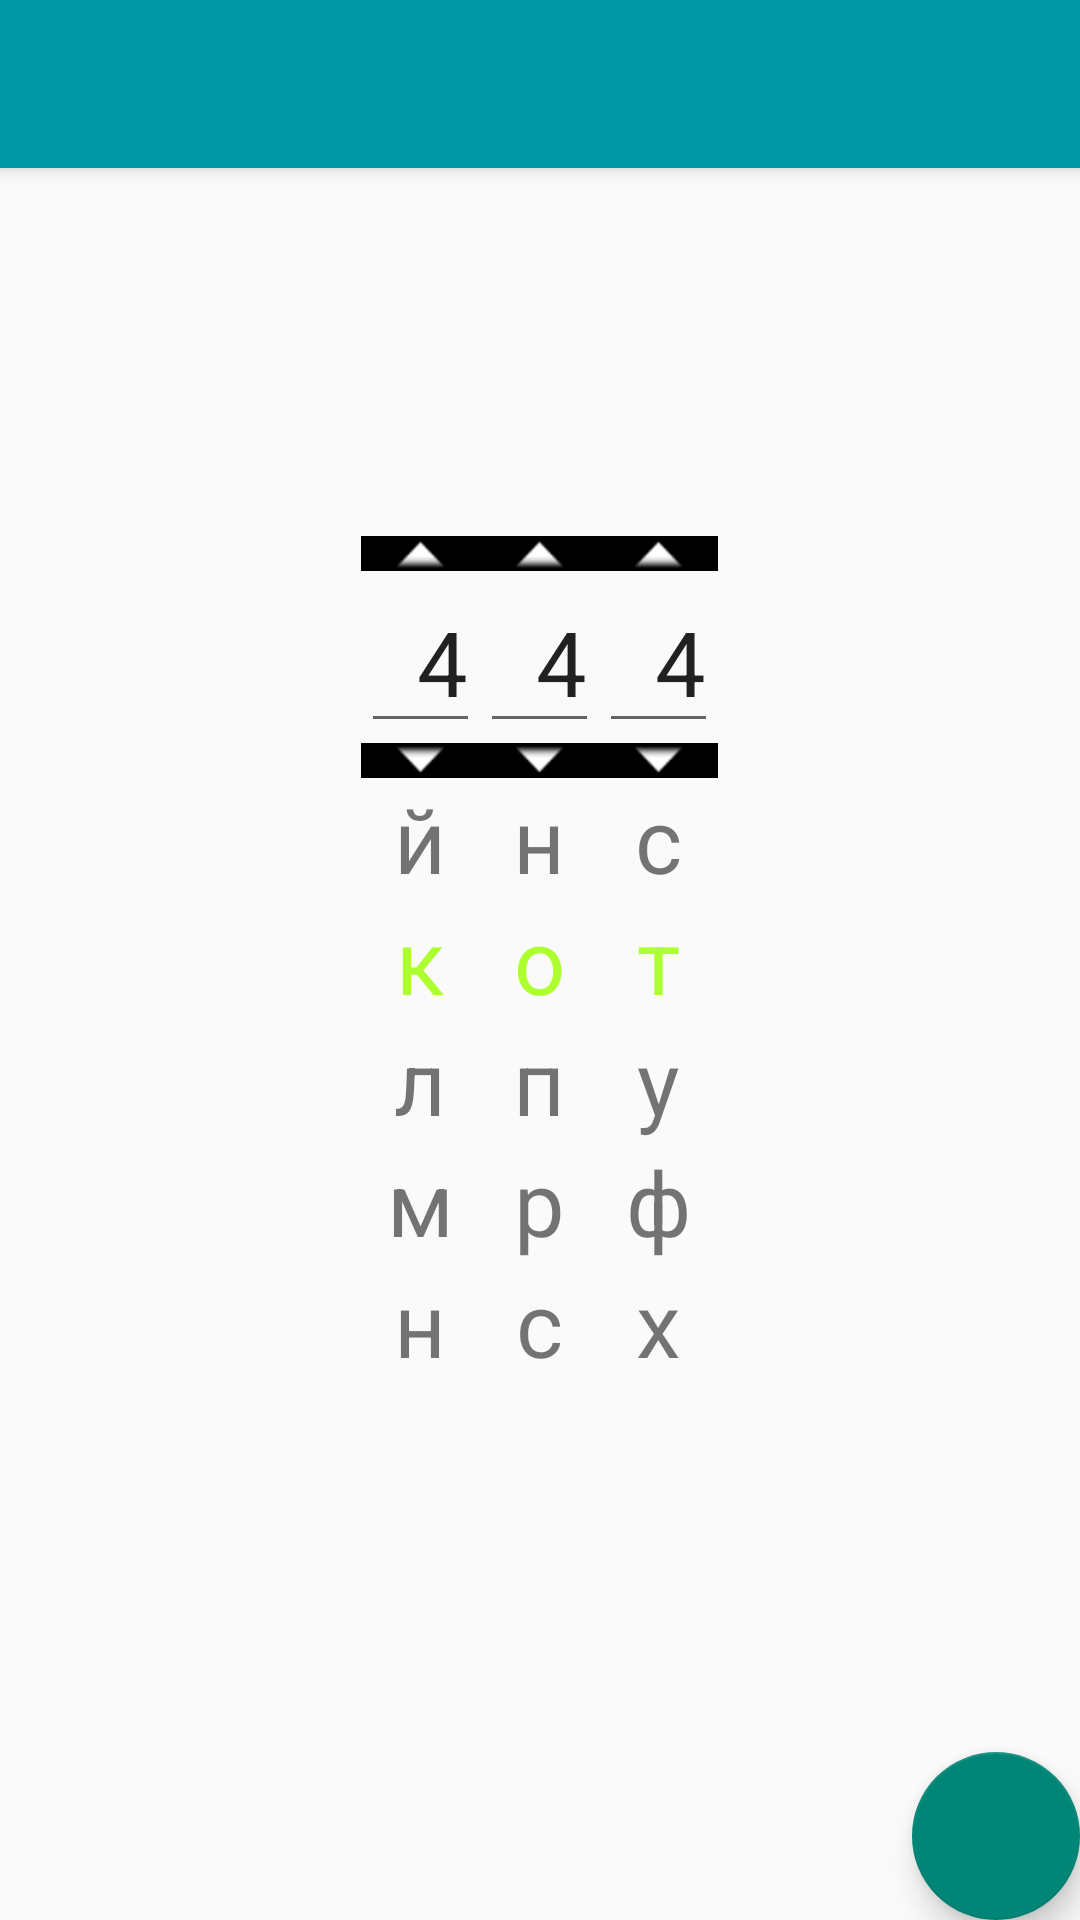

Icons on this 1080x1920 Android screen, each with its box as (x1, y1, x2, y2):
arrow down float: (361, 743, 480, 778), (480, 743, 599, 778), (599, 743, 718, 778)
arrow up float: (361, 536, 480, 571), (480, 536, 599, 571), (599, 536, 718, 571)
